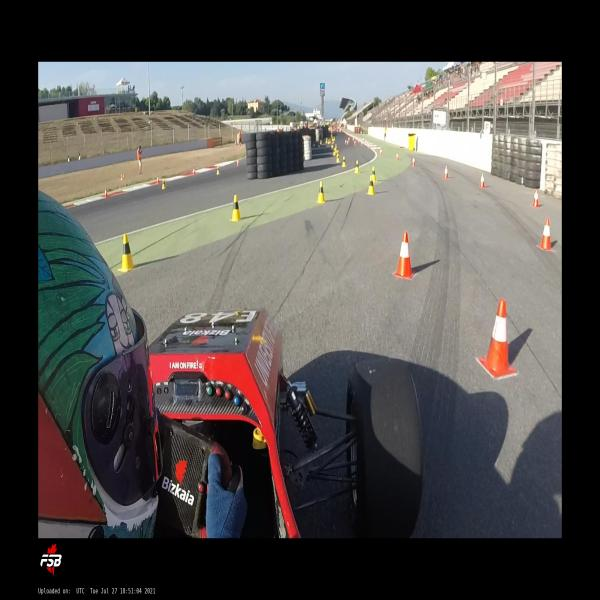orange_cone: (478, 300, 516, 378), (393, 232, 415, 279), (537, 218, 554, 251), (531, 189, 539, 208), (480, 174, 484, 189), (444, 166, 448, 178), (412, 157, 415, 166), (104, 189, 107, 198), (396, 153, 399, 160), (157, 177, 159, 184), (193, 168, 195, 175), (237, 160, 239, 166), (380, 150, 382, 155)
yellow_cone: (118, 234, 136, 272), (229, 195, 241, 221), (317, 181, 325, 203), (366, 176, 375, 195), (354, 161, 360, 173), (372, 167, 376, 182), (161, 178, 166, 189), (216, 165, 220, 175), (342, 157, 346, 167), (336, 153, 339, 162), (333, 148, 335, 156)
